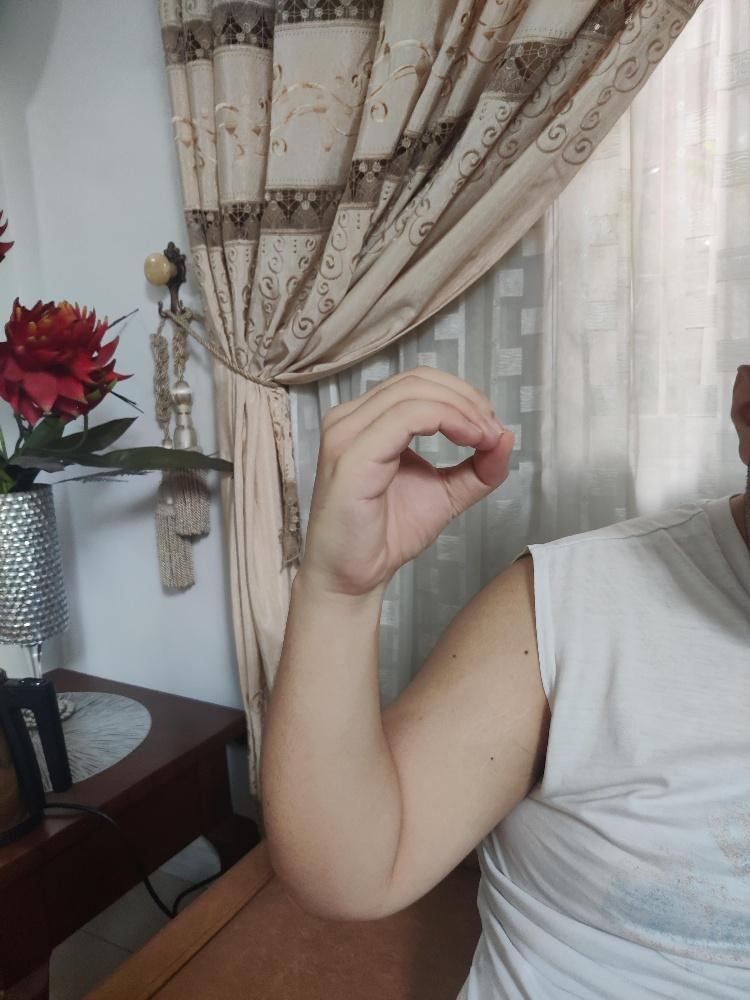o: (319, 361, 514, 588)
